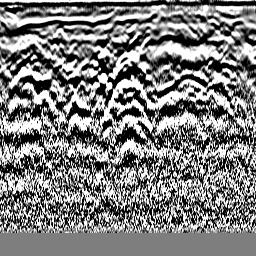cavity: (111, 53, 145, 81)
